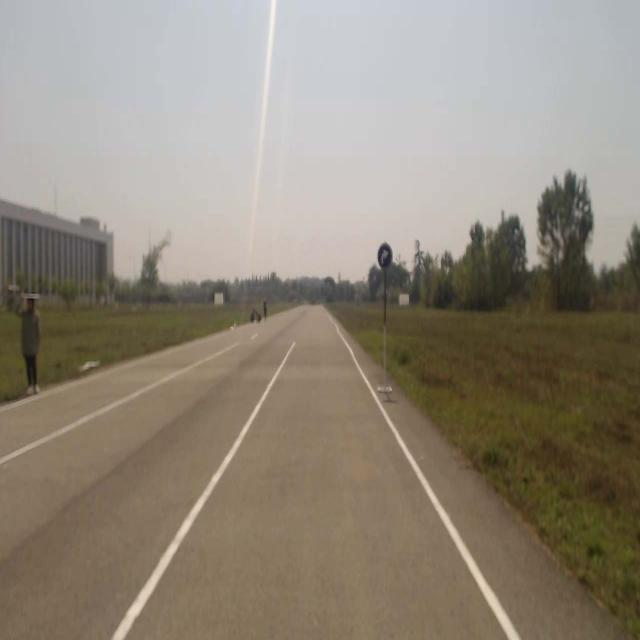sag: (377, 242, 393, 266)
